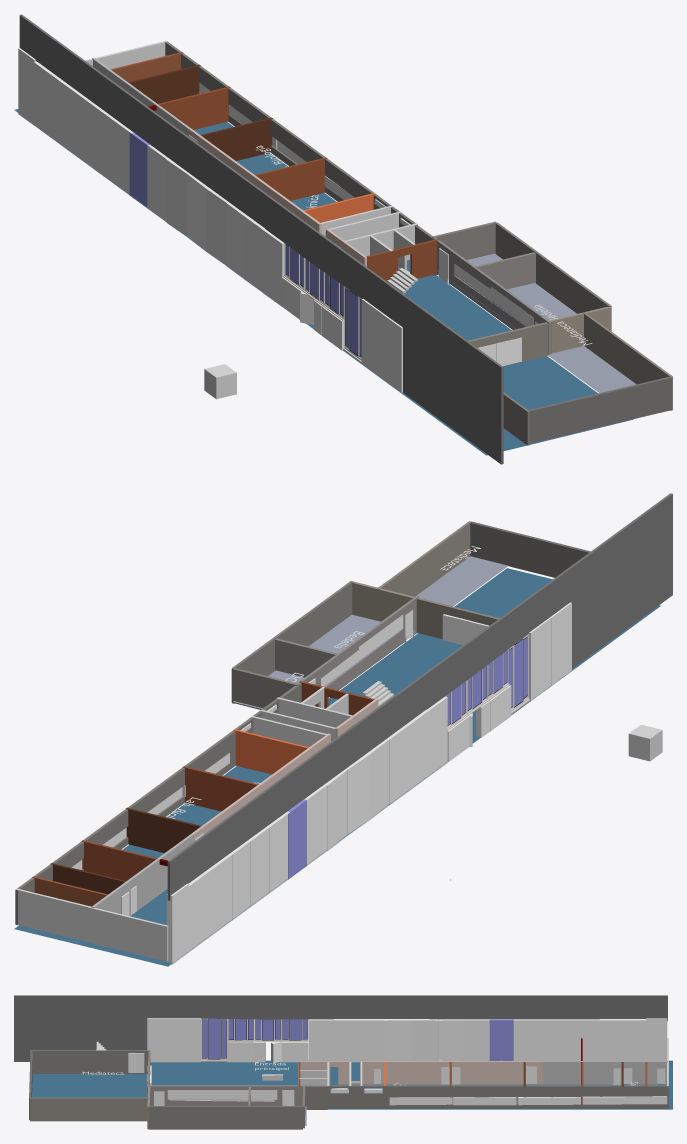
Rendered from CeRPSW_con_nombre.glb.
3 views of the same model, one above another, from view 1: azimuth 30°, elevation 25°; view 2: azimuth 150°, elevation 25°; view 3: azimuth 270°, elevation 25° (orthographic). The views are drawn at different scales.
Parts seen in each view (by area): view 1: Cubo.020, Plano, Cubo.021, Fondo, Cubo.013, Cubo.015, Cubo.003, Plano.002, Cubo.005, Cubo.006, Cubo.007, Cubo.023 (+37 smaller); view 2: Cubo.020, Plano, Fondo, Cubo.021, Cubo.013, Cubo.022, Cubo.015, Cubo.001, Cubo.003, Plano.002, Cubo.024, Cubo.006 (+40 smaller); view 3: Cubo.020, Plano, Fondo, Cubo.023, Cubo.013, Cubo.015, Cubo.024, Cubo.019, Cubo.003, CTRL_Hole.002, CTRL_Hole.022, CTRL_Hole.003 (+31 smaller).
Boxes of the visible parts, box(x1,y1,x2,y2) form: Cubo.020: box(19, 14, 503, 464); Plano: box(14, 109, 633, 455); Cubo.021: box(528, 376, 671, 443); Fondo: box(165, 41, 417, 227); Cubo.013: box(495, 222, 611, 330); Cubo.015: box(583, 312, 672, 410); Cubo.003: box(433, 237, 550, 356); Plano.002: box(547, 346, 636, 392); Cubo.005: box(158, 86, 230, 129); Cubo.006: box(200, 117, 272, 160); Cubo.007: box(255, 157, 327, 200); Cubo.023: box(92, 57, 366, 266); Cubo.020: box(167, 493, 672, 900); Plano: box(14, 568, 660, 966); Fondo: box(15, 698, 279, 924); Cubo.021: box(470, 521, 590, 577); Cubo.013: box(232, 581, 353, 703); Cubo.022: box(88, 906, 168, 961); Cubo.015: box(377, 521, 471, 596); Cubo.001: box(16, 888, 90, 941); Cubo.003: box(297, 596, 418, 690); Plano.002: box(415, 556, 508, 606); Cubo.024: box(92, 833, 193, 916); Cubo.006: box(126, 807, 201, 853); Cubo.020: box(14, 995, 667, 1061); Plano: box(32, 1060, 672, 1109); Fondo: box(327, 1085, 668, 1108); Cubo.023: box(298, 1061, 668, 1084); Cubo.013: box(148, 1106, 302, 1129); Cubo.015: box(30, 1097, 149, 1121); Cubo.024: box(538, 1061, 667, 1084); Cubo.019: box(30, 1050, 149, 1073); Cubo.003: box(147, 1085, 303, 1105); CTRL_Hole.002: box(174, 1018, 200, 1062); CTRL_Hole.022: box(357, 1019, 384, 1062); CTRL_Hole.003: box(147, 1018, 173, 1062).
Bounding box in the file's own units: 33.65 × 9.84 × 81.54.
